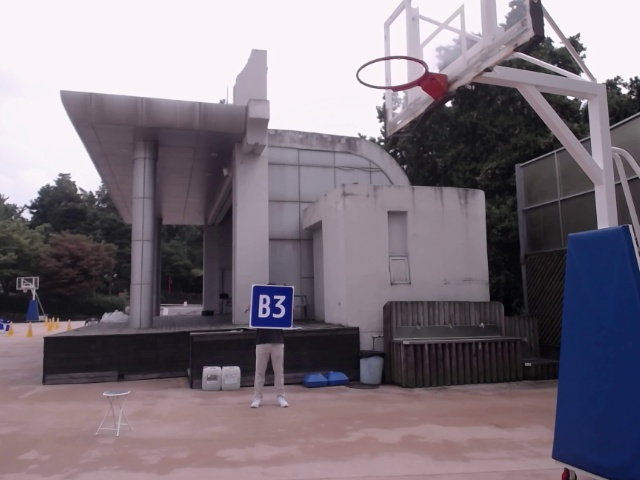delivery_b3: (251, 284, 294, 331)
